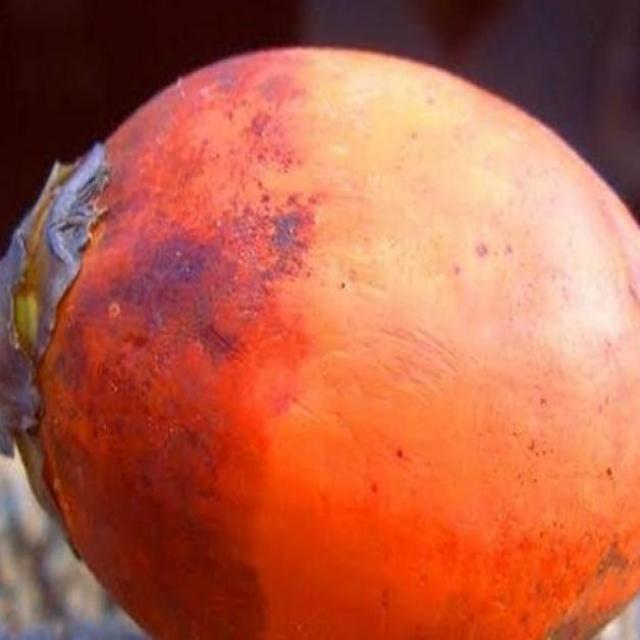good: (1, 47, 639, 639)
